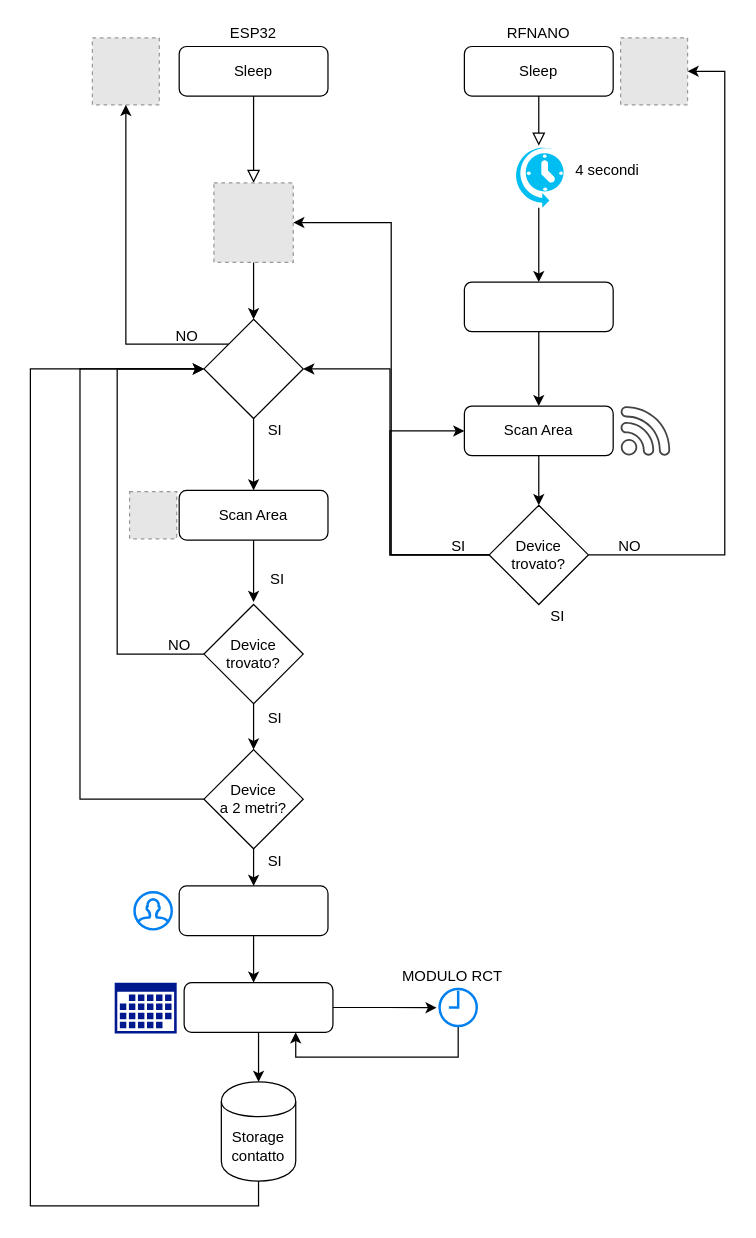
This 756x1238 diagram has some shape labels left out. Grey dashed boxes stand in for pictures. The box of each missing label's shape, as (x1, y1, x2, y2) in pixels:
CONTATTO!: (178, 885, 328, 936)
Data e Ora: (183, 981, 333, 1032)
Rimango sveglio?: (203, 318, 303, 418)
Wake: (463, 281, 613, 332)
